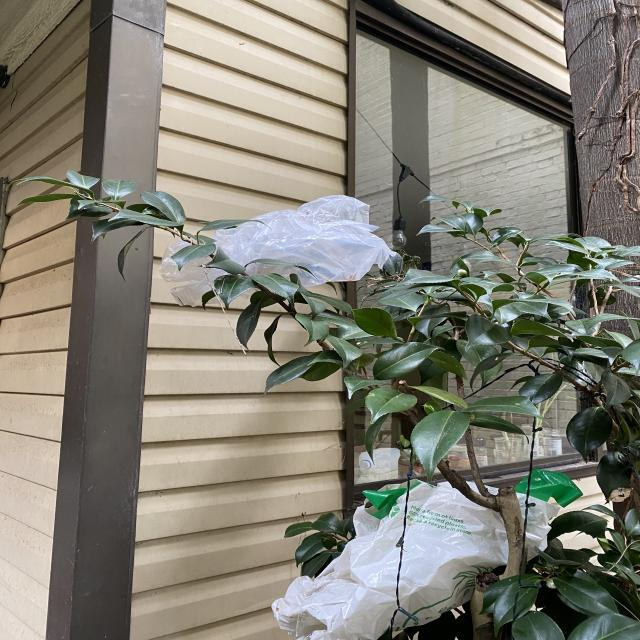bag: (271, 469, 584, 640), (159, 195, 396, 307)
bottle: (358, 448, 401, 474)
